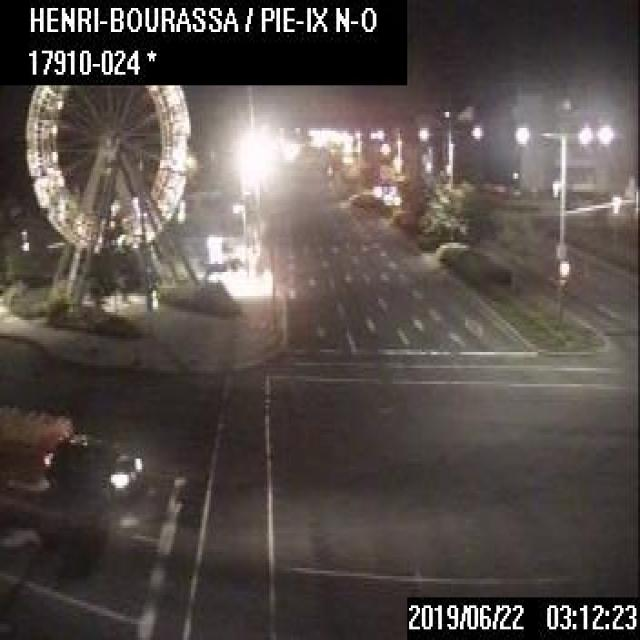vehicle: (40, 437, 142, 504)
